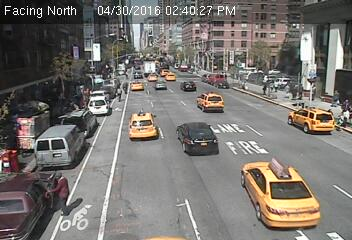neg: (2, 105, 31, 143), (260, 120, 287, 156), (65, 129, 91, 164), (48, 31, 74, 66), (4, 176, 29, 210), (140, 153, 165, 186), (110, 29, 135, 62), (151, 45, 175, 77), (275, 27, 299, 58), (180, 102, 203, 132), (80, 93, 102, 122), (314, 60, 336, 89), (210, 40, 231, 68), (227, 154, 244, 177), (102, 190, 118, 211), (196, 199, 212, 220), (247, 89, 260, 107)
pos: (40, 168, 76, 215)
